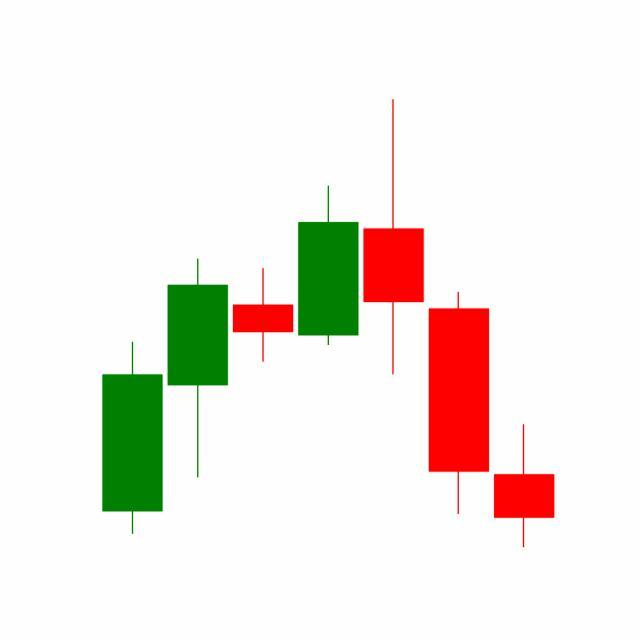Three Inside Up-Down: (295, 99, 492, 519)
